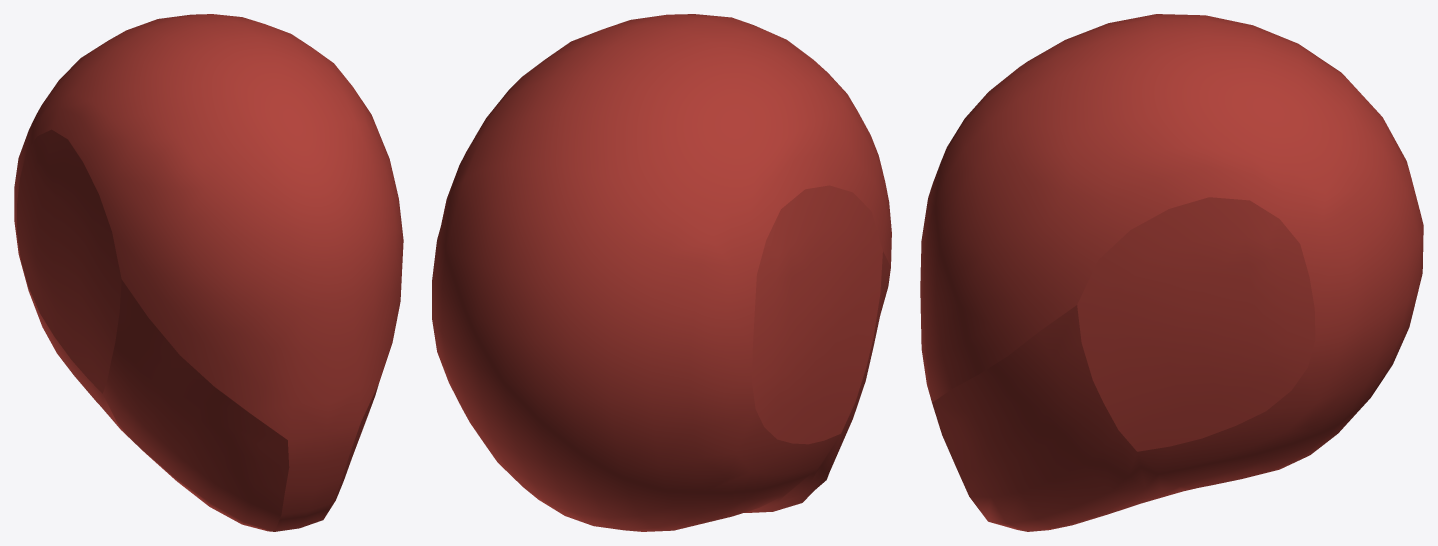
Rendered from pers_head_base.fbx.
The picture shows the model from 3 angles, left to right: view 1: azimuth 30°, elevation 25°; view 2: azimuth 150°, elevation 25°; view 3: azimuth 270°, elevation 25°; orthographic projection. The views are drawn at different scales.
Visible parts, largest first — view 1: Beta_Head_Physics; view 2: Beta_Head_Physics; view 3: Beta_Head_Physics.
Boxes of the visible parts, bbox=[...] form: Beta_Head_Physics: bbox=[14, 14, 403, 531]; Beta_Head_Physics: bbox=[432, 14, 891, 531]; Beta_Head_Physics: bbox=[920, 14, 1423, 531].
Size of the model in its own units: 0.1761 by 0.2665 by 0.2485.
